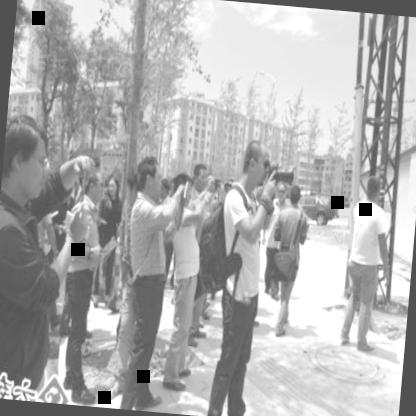head: (0, 114, 54, 207), (240, 140, 272, 194), (133, 154, 164, 204), (362, 168, 386, 210), (80, 168, 107, 204), (171, 168, 192, 206), (192, 160, 210, 194), (273, 178, 291, 210), (288, 180, 304, 212), (106, 168, 121, 198)
